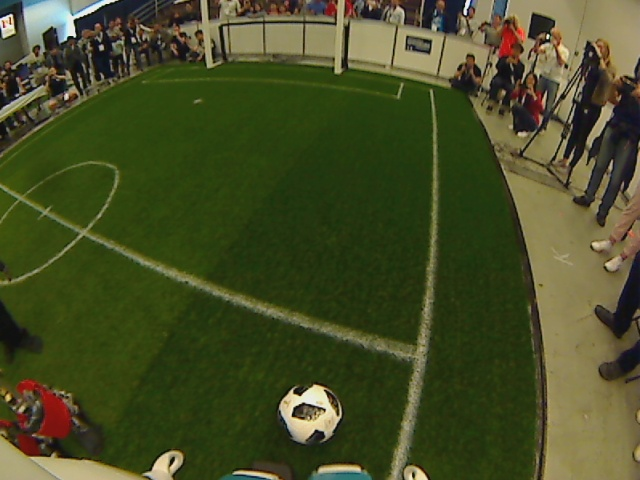ball: (277, 380, 343, 448)
goalpost: (323, 56, 350, 82), (198, 53, 223, 78)
